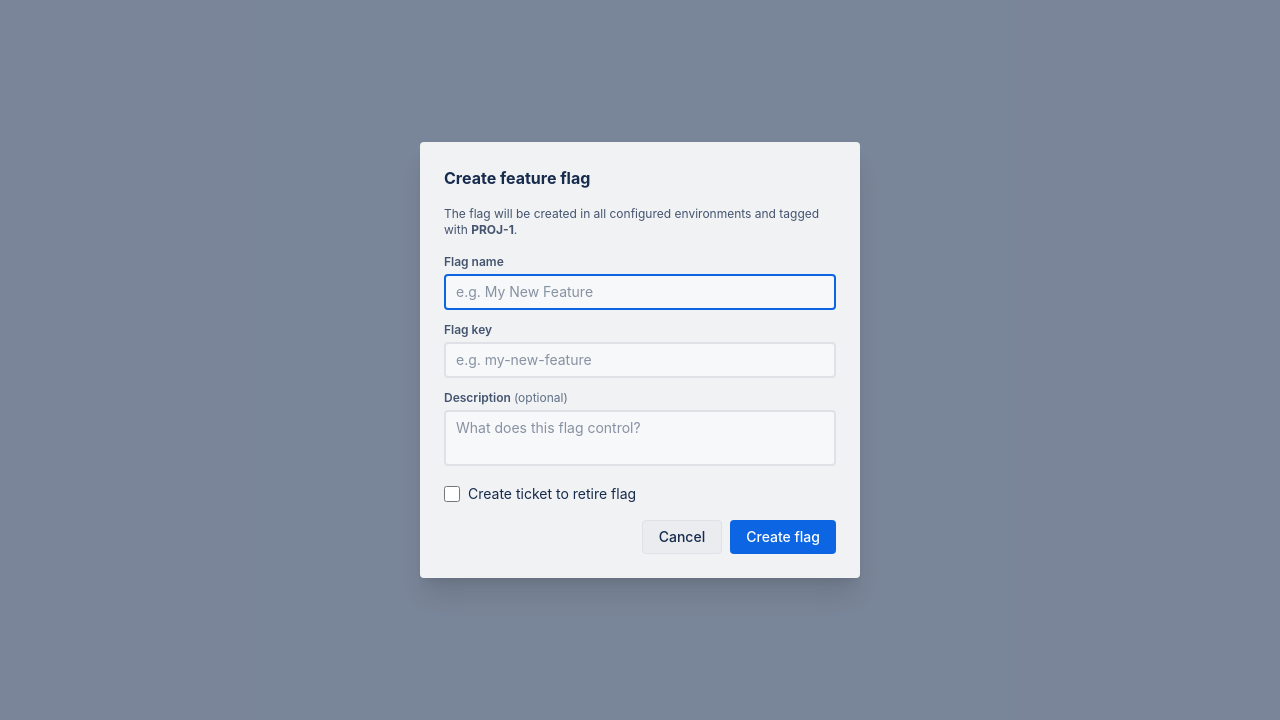
Test case: CreateFlagModal › shows an error when submitted with no name
What coordinates should you click on to do the following:
click the button "Create flag"
I would click on:
 (783, 537)
Its box is [730,520,836,554].
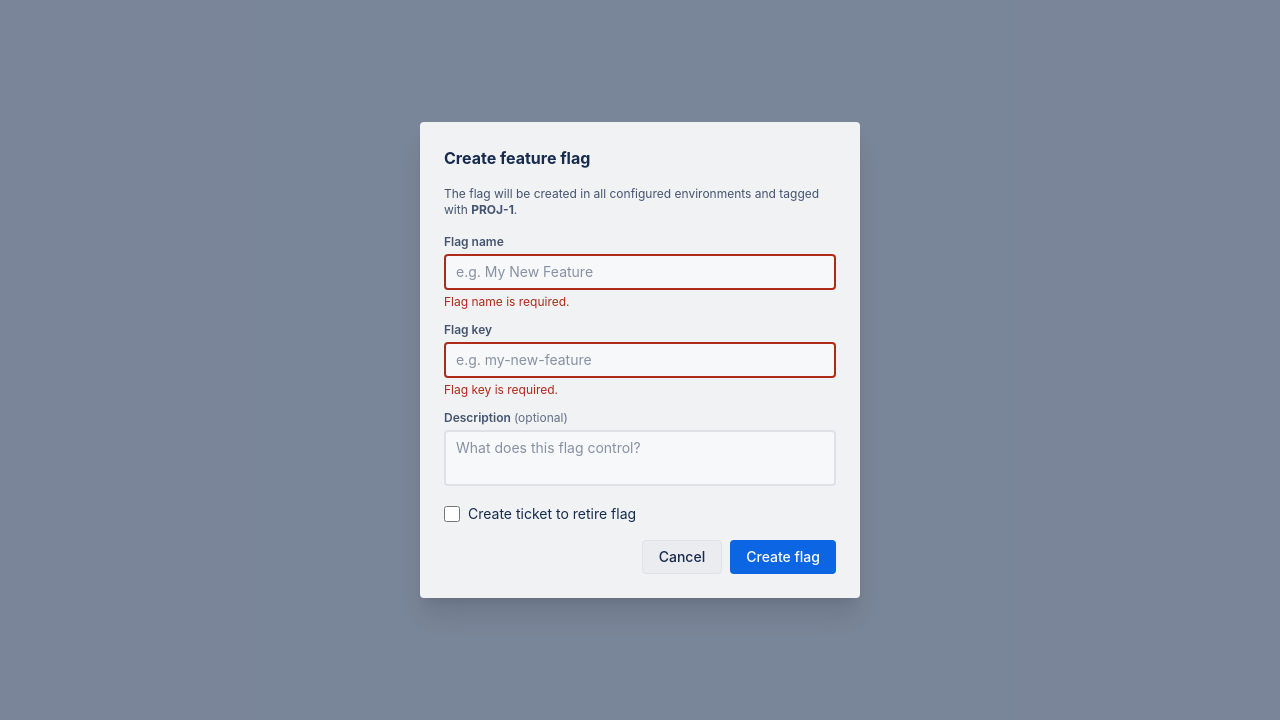
Now the text "Flag name is required" is shown, box [444,294,570,309]
